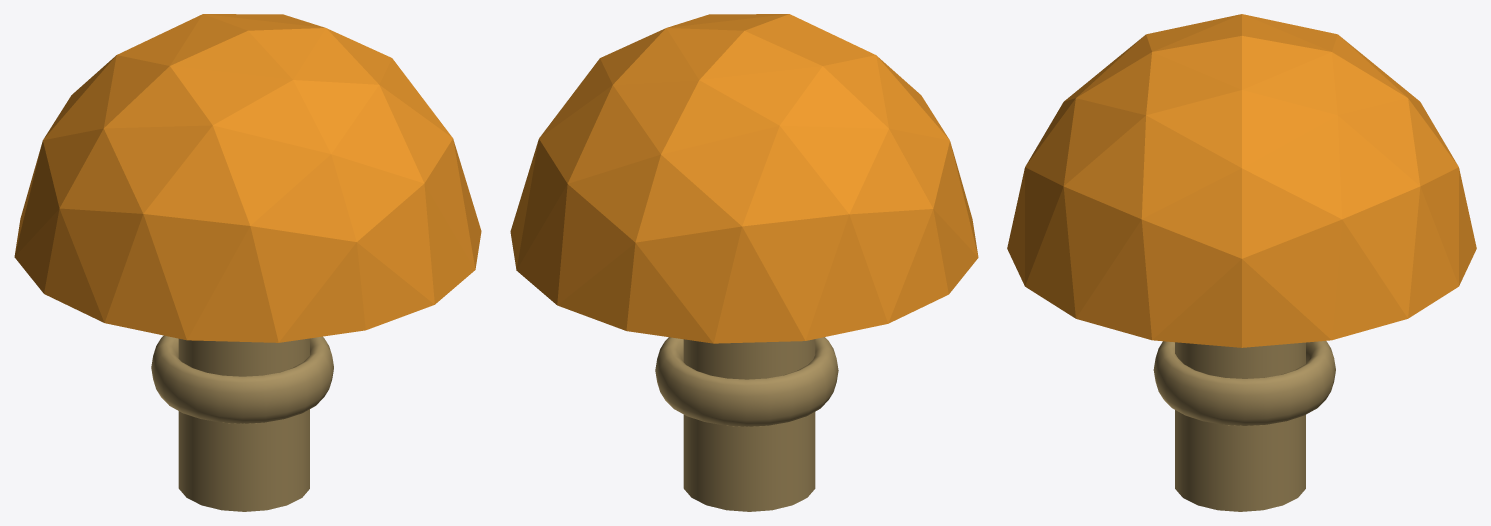
Rendered from Mushroom_2.FBX.
3 views of the same model, side by side, from view 1: azimuth 30°, elevation 25°; view 2: azimuth 150°, elevation 25°; view 3: azimuth 270°, elevation 25° (orthographic).
Visible parts, largest first — view 1: GeoSphere002, Cylinder001, Torus001; view 2: GeoSphere002, Cylinder001, Torus001; view 3: GeoSphere002, Cylinder001, Torus001.
Part boxes in pixels (bbox=[...]): GeoSphere002: bbox=[14, 14, 481, 342]; Cylinder001: bbox=[178, 338, 309, 511]; Torus001: bbox=[151, 335, 333, 423]; GeoSphere002: bbox=[510, 14, 978, 343]; Cylinder001: bbox=[683, 339, 815, 511]; Torus001: bbox=[655, 337, 838, 426]; GeoSphere002: bbox=[1007, 14, 1476, 347]; Cylinder001: bbox=[1175, 342, 1305, 511]; Torus001: bbox=[1153, 341, 1335, 425].
Size of the model in its own units: 12.13 by 12.83 by 12.13.
